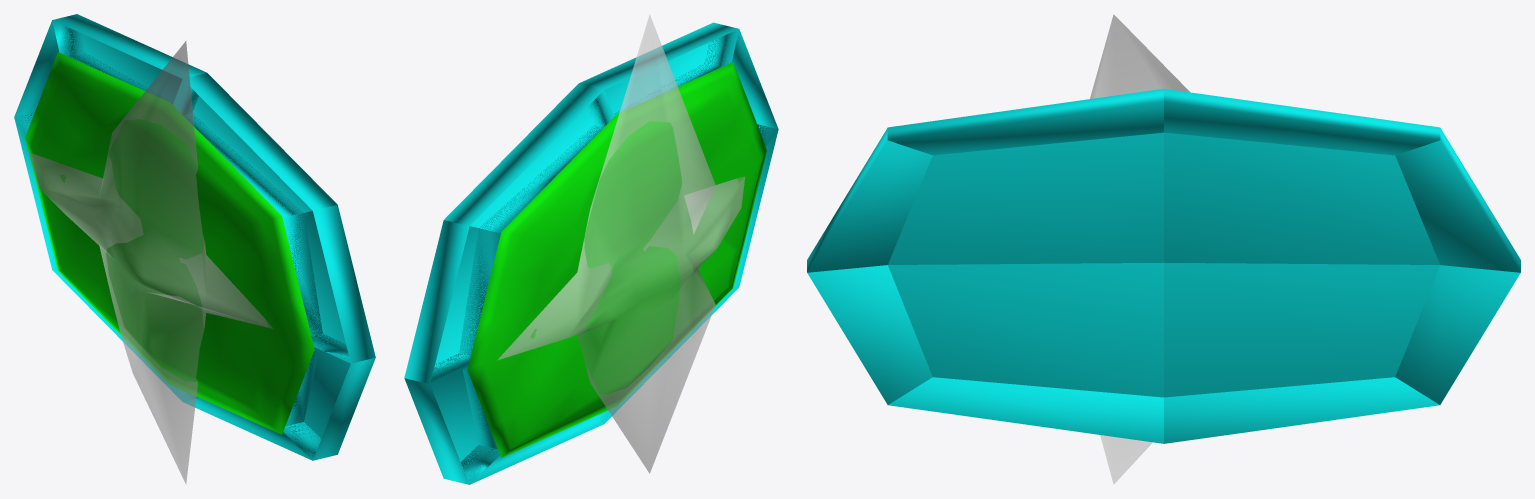
File: shieldCustom.fbx
3 renders of one model, left to right at view 1: azimuth 30°, elevation 25°; view 2: azimuth 150°, elevation 25°; view 3: azimuth 270°, elevation 25°, orthographic. The views are drawn at different scales.
Parts seen in each view (by area): view 1: Cube, Cube.001, Cube.002; view 2: Cube, Cube.001, Cube.002; view 3: Cube.002, Cube.001.
Boxes of the visible parts, bbox=[...] form: Cube: bbox=[25, 52, 314, 434]; Cube.001: bbox=[29, 41, 272, 484]; Cube.002: bbox=[14, 14, 375, 460]; Cube: bbox=[467, 62, 766, 457]; Cube.001: bbox=[497, 14, 744, 473]; Cube.002: bbox=[404, 22, 778, 484]; Cube.002: bbox=[807, 88, 1520, 443]; Cube.001: bbox=[1090, 14, 1189, 484].
Bounding box in the file's own units: 2.11 × 9.14 × 12.55.
